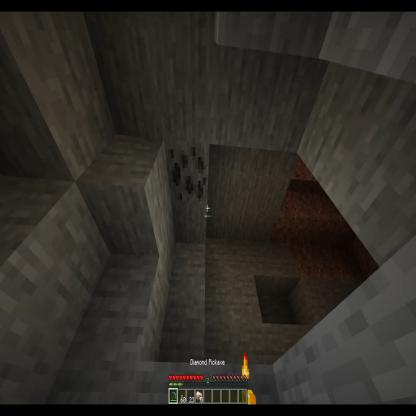coal ore: (162, 138, 210, 205)
